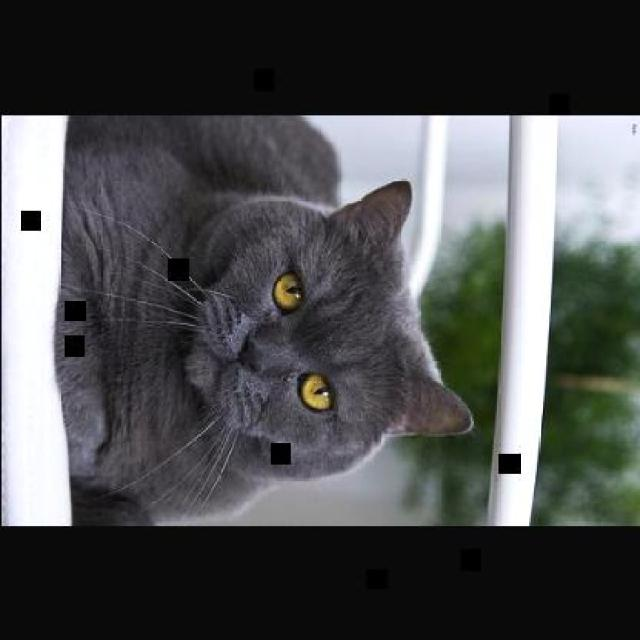unauthorized: (52, 112, 474, 526)
